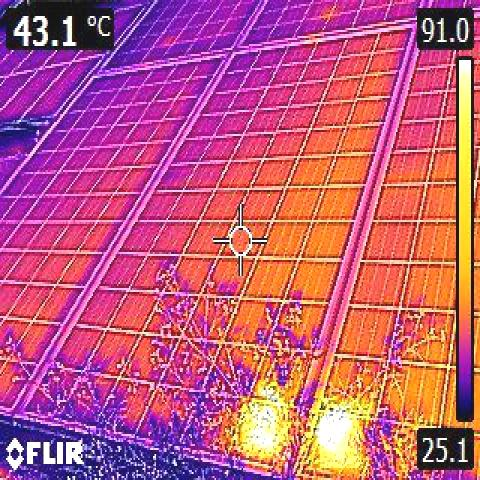fault: (242, 403, 288, 463), (320, 414, 359, 468)
